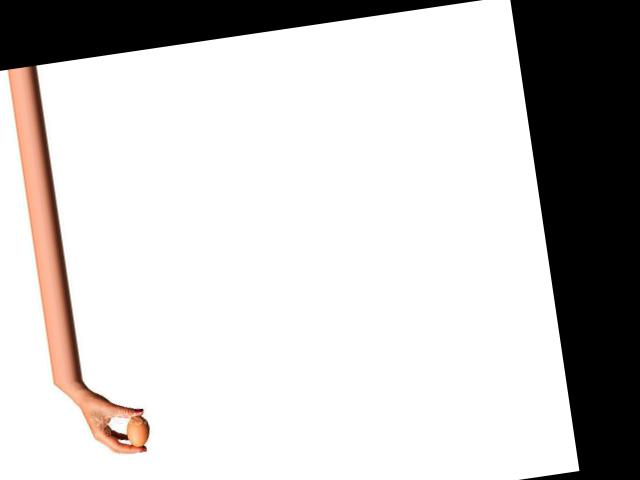egg: (124, 414, 150, 447)
